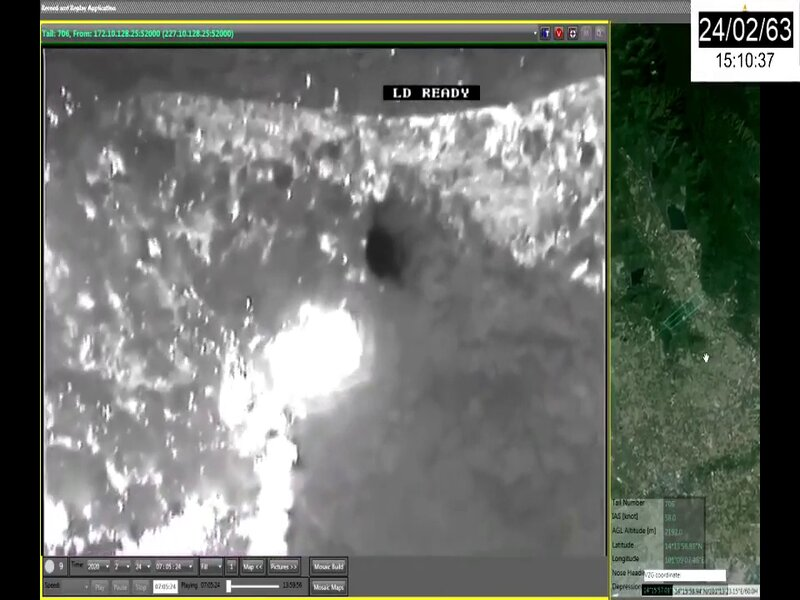Fire: (114, 298, 365, 555)
